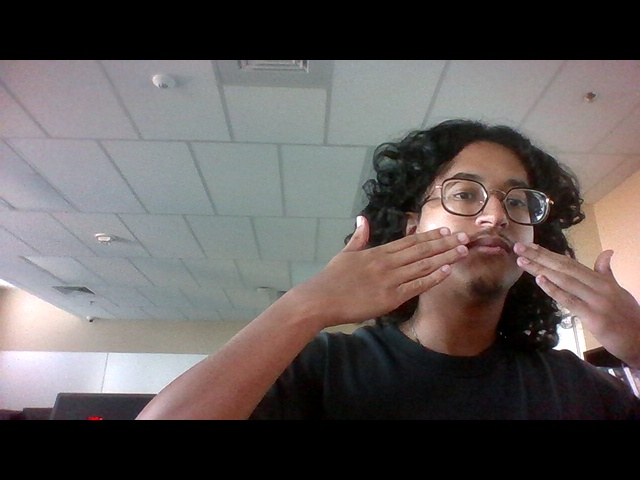thanks: (298, 204, 640, 362)
